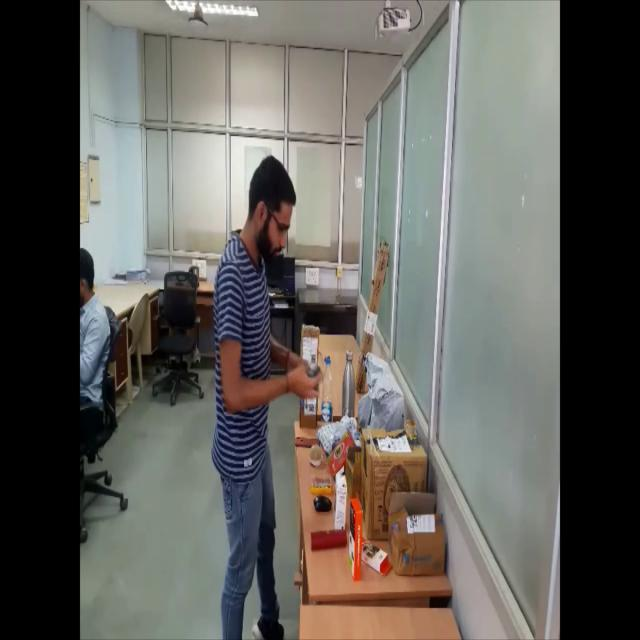normal: (208, 154, 327, 640)
